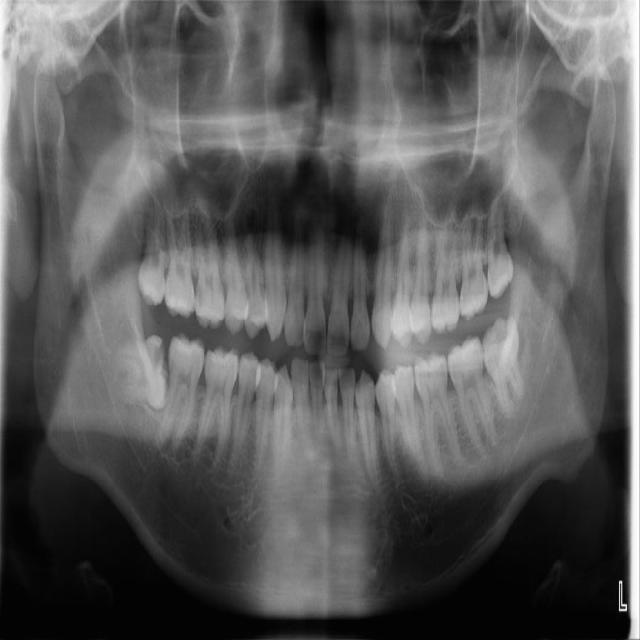impacted tooth: (484, 316, 527, 421), (111, 332, 162, 407)
